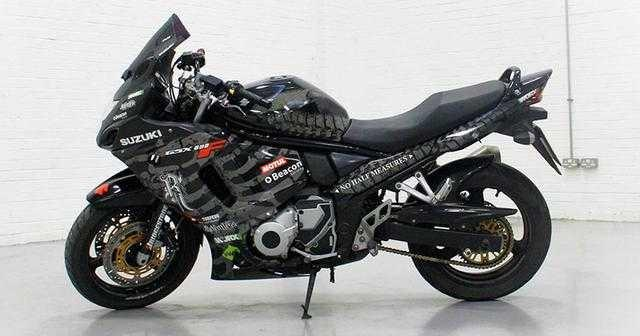motorbike: (64, 14, 562, 311)
